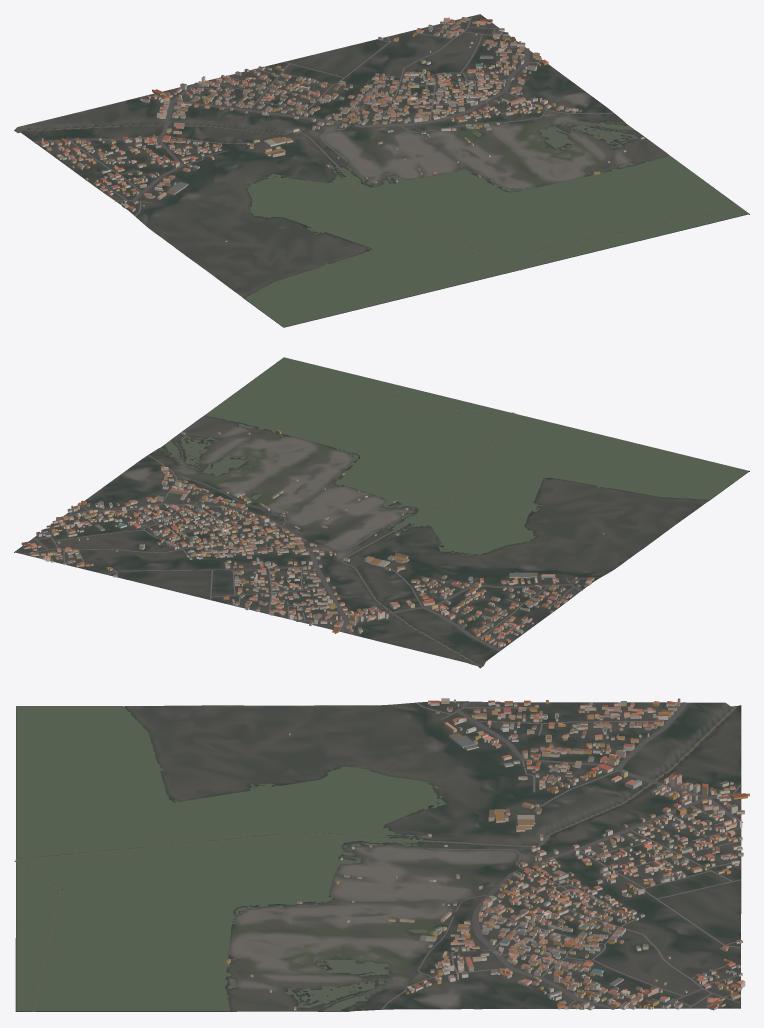
3 views of the same model, one above another, from view 1: azimuth 30°, elevation 25°; view 2: azimuth 150°, elevation 25°; view 3: azimuth 270°, elevation 25° (orthographic). The views are drawn at different scales.
Visible parts, largest first — view 1: ground, water, buildings, roads; view 2: ground, water, buildings, roads; view 3: ground, water, buildings, roads.
Boxes of the visible parts, box(x1,y1,x2,y2) form: ground: box(14, 14, 749, 327); water: box(15, 122, 748, 327); buildings: box(41, 17, 644, 241); roads: box(34, 16, 613, 215); ground: box(14, 361, 749, 668); water: box(162, 357, 748, 666); buildings: box(21, 429, 604, 647); roads: box(22, 455, 600, 650); ground: box(15, 701, 741, 1011); water: box(14, 706, 736, 1011); buildings: box(225, 698, 749, 1010); roads: box(381, 701, 742, 1009).
Size of the model in its own units: 1408 by 30.94 by 1422.
